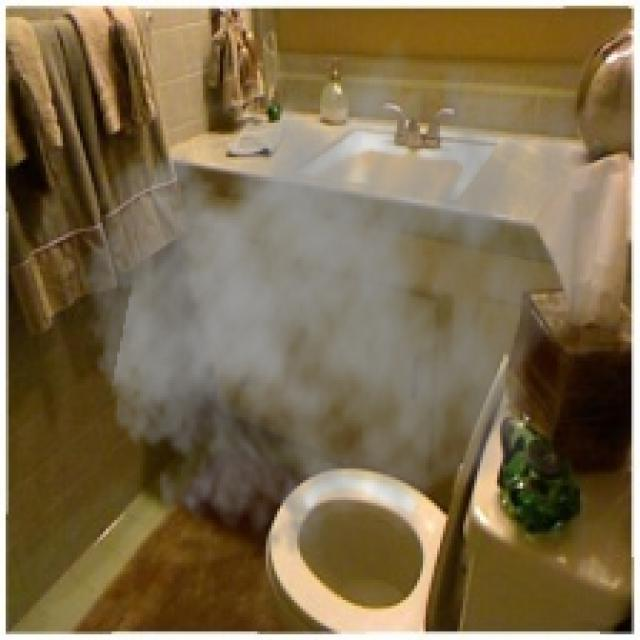smoke: (71, 14, 626, 577)
